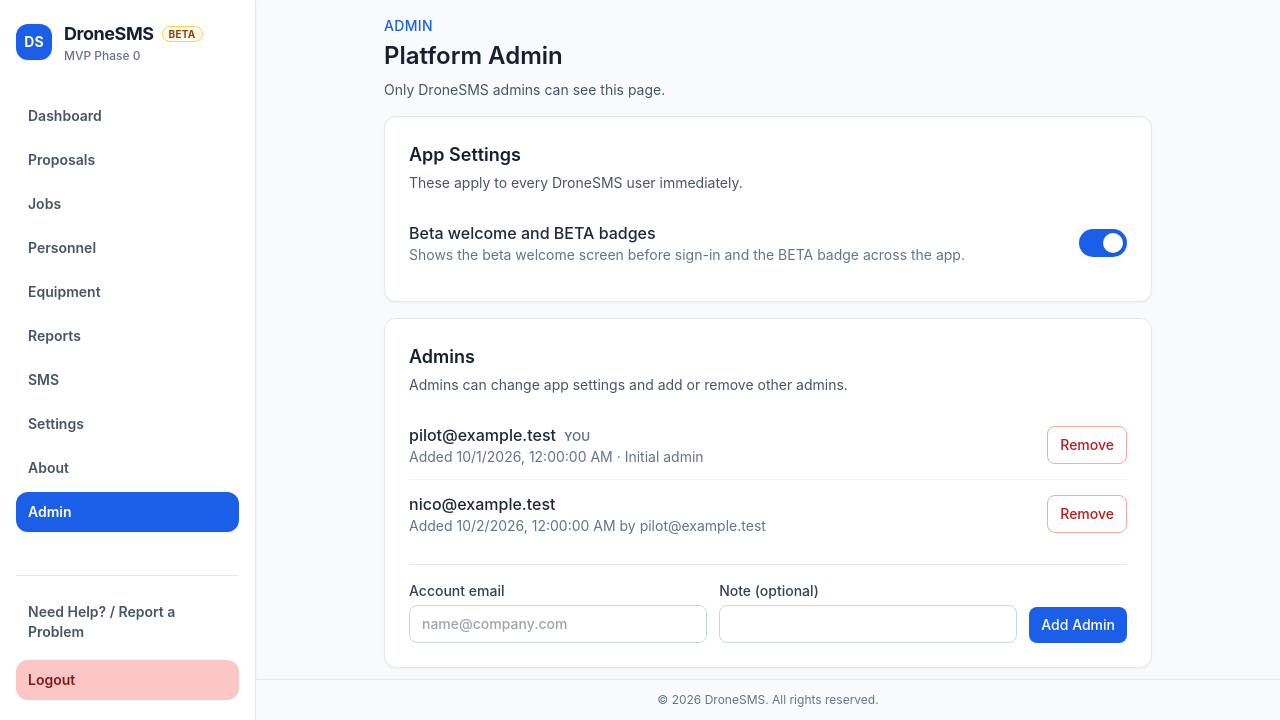
Scenario: Platform admin access › shows the database refusal when removing an admin fails
Expected: the text "nico@example.test" is shown, x1=409 y1=494 x2=556 y2=514
Click the button "Remove" in the row of "nico@example.test".
click(1087, 514)  # box x1=1047 y1=495 x2=1127 y2=533
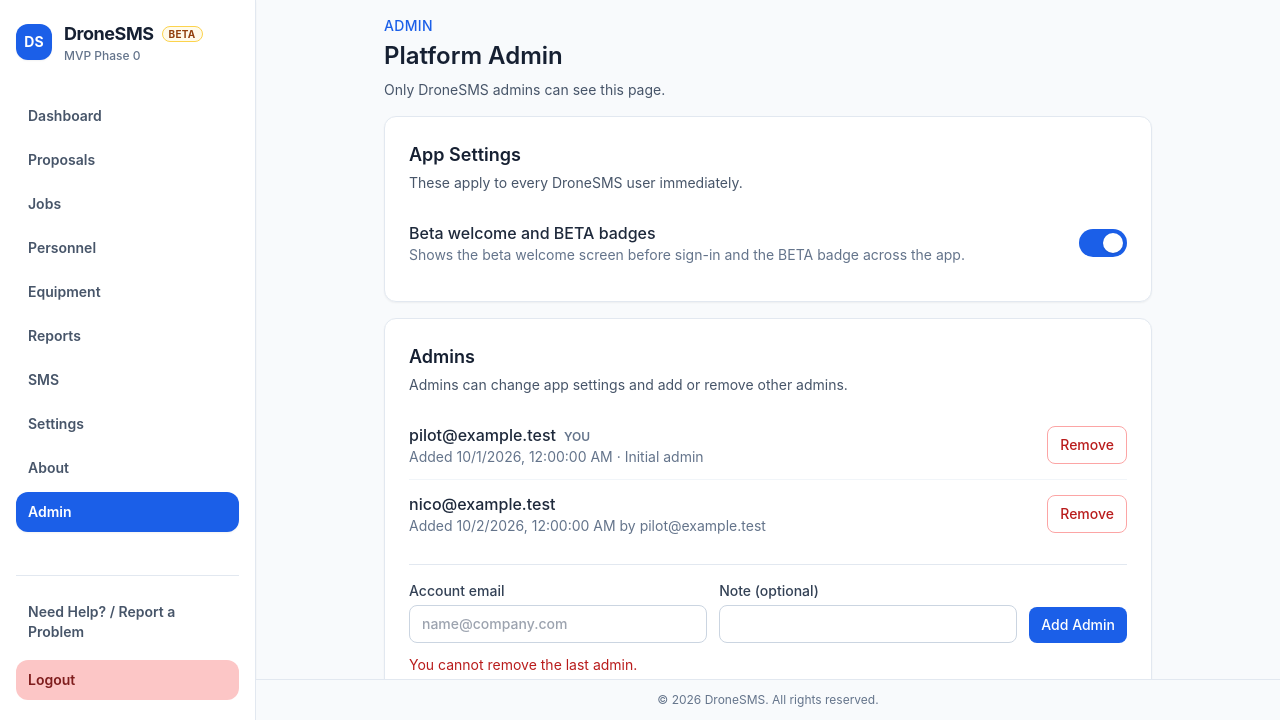
Result: the text "You cannot remove the last admin." is shown at x1=409 y1=656 x2=637 y2=673
